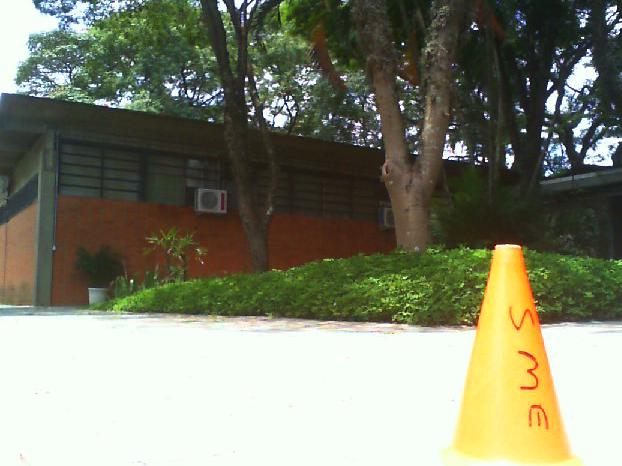0 cone: (440, 244, 582, 466)
